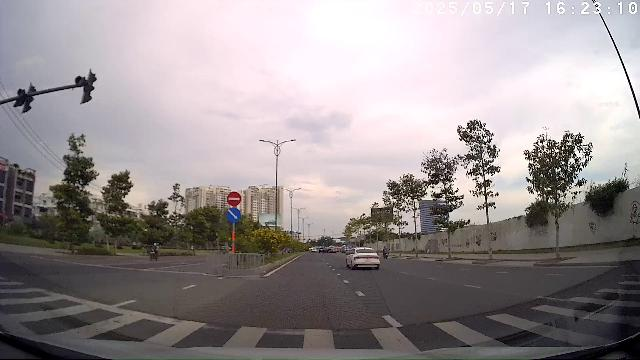102-cam-di-nguoc-chieu: (227, 192, 241, 206)
302a-huong-phai-di-vong-chuong-ngai-vat-1: (226, 207, 240, 222)
